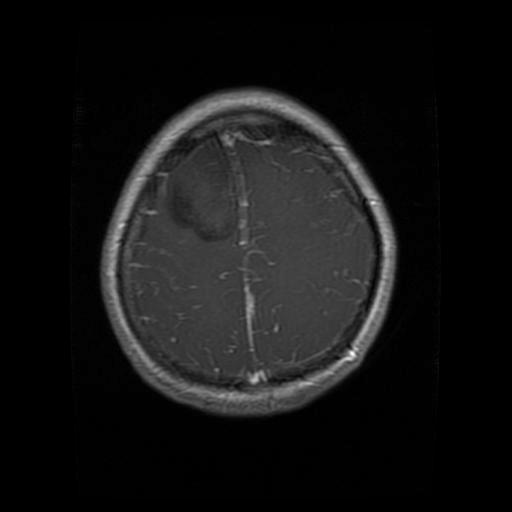Tumour-Glioma: (172, 162, 242, 240)
